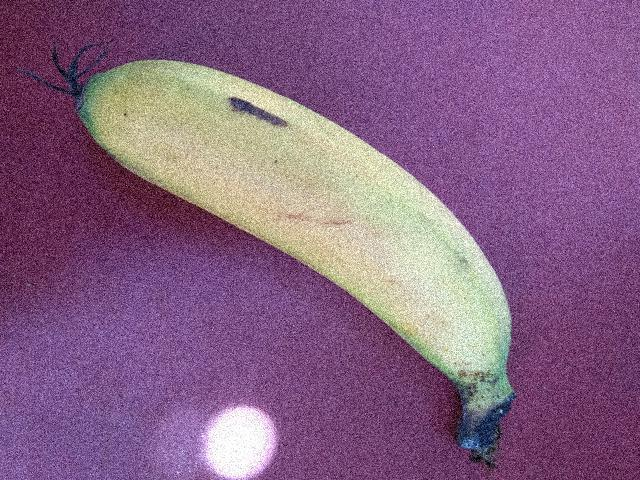ripe: (79, 54, 521, 417)
